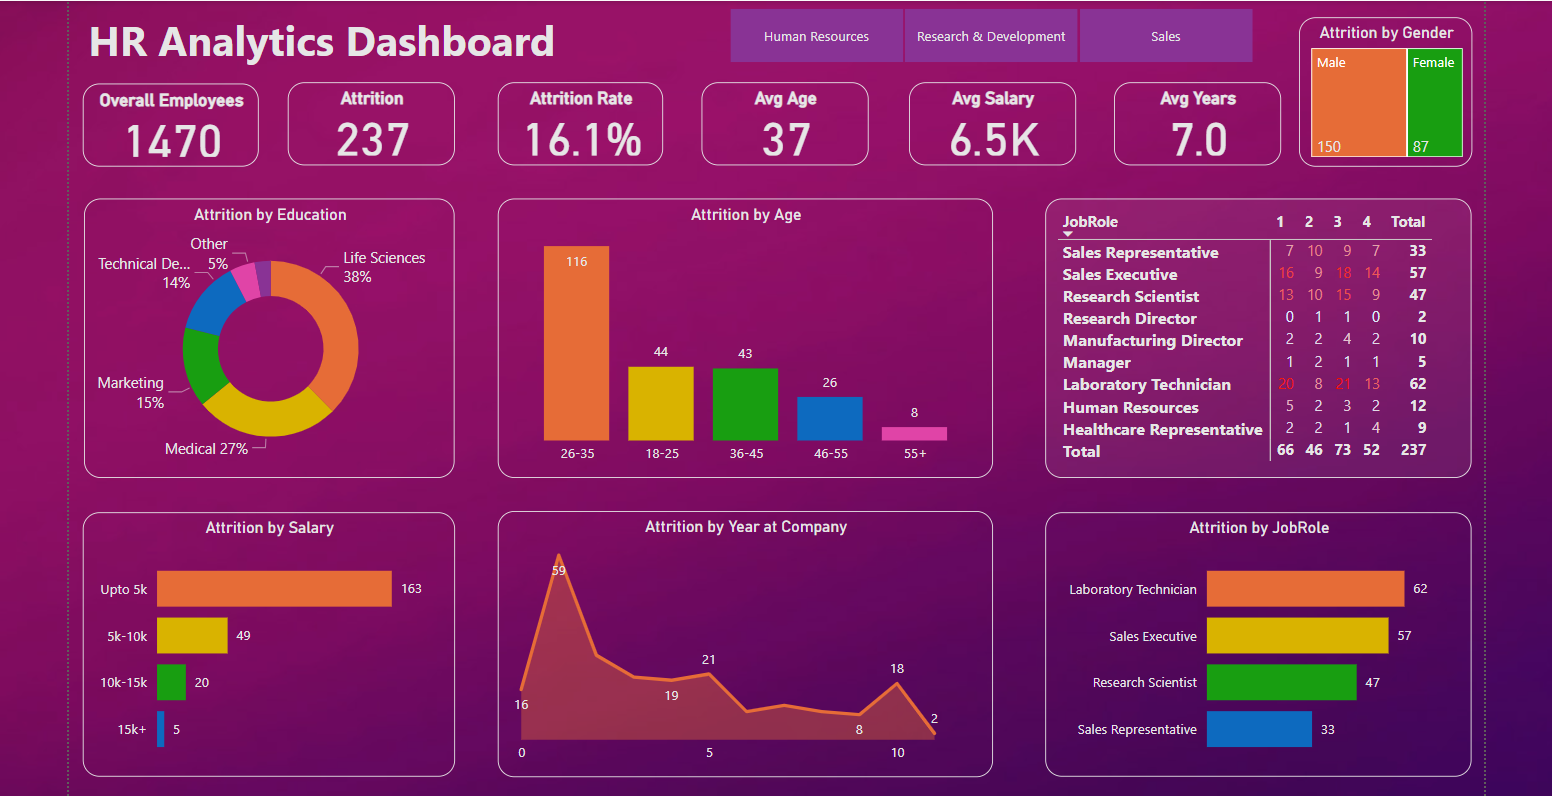

The page's visual inventory and layout, read from the dashboard file:
{"tool":"powerbi","page":{"name":"Page 1","canvas":[1280,720],"ordinal":0},"visuals":[{"type":"card","title":"Overall Employees","fields":{"Values":["CountNonNull(HR_Analytics.EmpID)"]},"box":[12,74.3,159.3,75.4],"z":0},{"type":"card","title":"Attrition","fields":{"Values":["Sum(HR_Analytics.AttritionCount)"]},"box":[197.4,74.1,150.9,75.5],"z":1000},{"type":"card","title":"Attrition Rate","fields":{"Values":["HR_Analytics.AttritionRate"]},"box":[388.2,74.1,149.6,75.5],"z":2000},{"type":"card","title":"Avg Age","fields":{"Values":["Avg(HR_Analytics.Age)"]},"box":[572.1,74.1,150.9,75.5],"z":3000},{"type":"card","title":"Avg Salary","fields":{"Values":["Avg(HR_Analytics.MonthlyIncome)"]},"box":[760.1,74.1,150.9,75.5],"z":4000},{"type":"card","title":"Avg Years","fields":{"Values":["Avg(HR_Analytics.YearsAtCompany)"]},"box":[945.3,74.1,150.9,75.5],"z":5000},{"type":"donutChart","title":"Attrition by Education","fields":{"Y":["Sum(HR_Analytics.AttritionCount)"],"Category":["HR_Analytics.EducationField"]},"box":[13.2,178.4,335.3,252.7],"z":6000},{"type":"columnChart","title":"Attrition by Age","fields":{"Category":["HR_Analytics.AgeGroup"],"Y":["Sum(HR_Analytics.AttritionCount)"]},"box":[388,178.4,447.9,252.7],"z":7000},{"type":"pivotTable","fields":{"Values":["Sum(HR_Analytics.AttritionCount)"],"Rows":["HR_Analytics.JobRole"],"Columns":["HR_Analytics.JobSatisfaction"]},"box":[882.6,178.4,385.6,252.7],"z":8000},{"type":"barChart","title":"Attrition by Salary","fields":{"Category":["HR_Analytics.SalarySlab"],"Y":["Sum(HR_Analytics.AttritionCount)"]},"box":[12,462.3,336.5,239.5],"z":8001},{"type":"barChart","title":"Attrition by JobRole","fields":{"Y":["Sum(HR_Analytics.AttritionCount)"],"Category":["HR_Analytics.JobRole"]},"box":[882.6,462.3,385.6,239.5],"z":8002},{"type":"areaChart","title":"Attrition by Year at Company","fields":{"Category":["HR_Analytics.YearsAtCompany"],"Y":["Sum(HR_Analytics.AttritionCount)"]},"box":[388,461.1,447.9,240.7],"z":8003},{"type":"treemap","title":"Attrition by Gender","fields":{"Group":["HR_Analytics.Gender"],"Values":["Sum(HR_Analytics.AttritionCount)"]},"box":[1112.6,14.4,156.9,135.3],"z":8004},{"type":"slicer","fields":{"Values":["HR_Analytics.Department"]},"box":[572.5,0,522.2,62.3],"z":8005},{"type":"textbox","box":[12,4.8,525.8,69.5],"z":8006}]}

Visuals, with their boxes in screenshot pixels (x1, y1, x2, y2):
"Overall Employees" card: bbox=(86, 85, 260, 167)
"Attrition" card: bbox=(288, 85, 453, 167)
"Attrition Rate" card: bbox=(496, 85, 659, 167)
"Avg Age" card: bbox=(697, 85, 861, 167)
"Avg Salary" card: bbox=(902, 85, 1066, 167)
"Avg Years" card: bbox=(1104, 85, 1268, 167)
"Attrition by Education" donutChart: bbox=(87, 199, 453, 474)
"Attrition by Age" columnChart: bbox=(496, 199, 984, 474)
pivotTable - Sum(HR_Analytics.AttritionCount) x HR_Analytics.JobRole: bbox=(1035, 199, 1456, 474)
"Attrition by Salary" barChart: bbox=(86, 508, 453, 769)
"Attrition by JobRole" barChart: bbox=(1035, 508, 1456, 769)
"Attrition by Year at Company" areaChart: bbox=(496, 507, 984, 769)
"Attrition by Gender" treemap: bbox=(1286, 20, 1457, 167)
slicer - HR_Analytics.Department: bbox=(697, 4, 1267, 72)
textbox: bbox=(86, 9, 659, 85)
